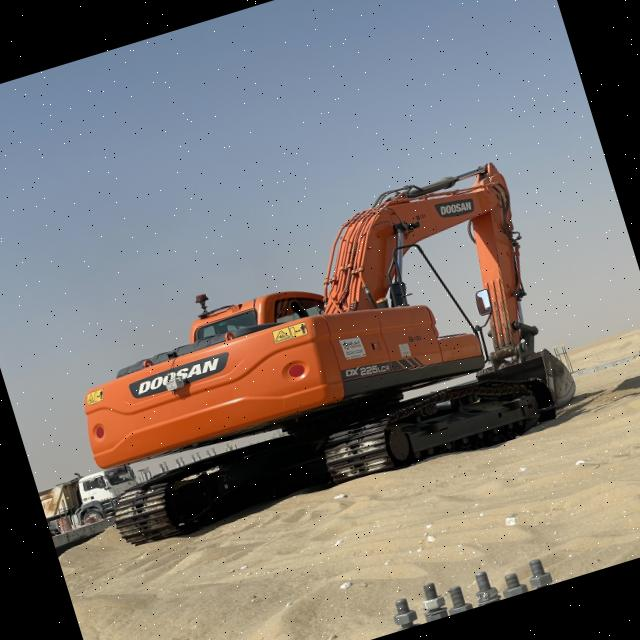Excavator: (39, 145, 591, 570)
